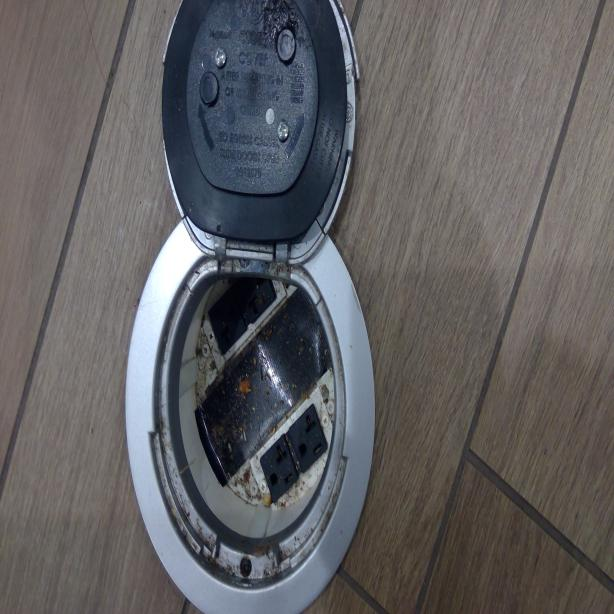typeb: (260, 438, 294, 503), (295, 406, 327, 466), (236, 275, 274, 317), (208, 301, 241, 348)
